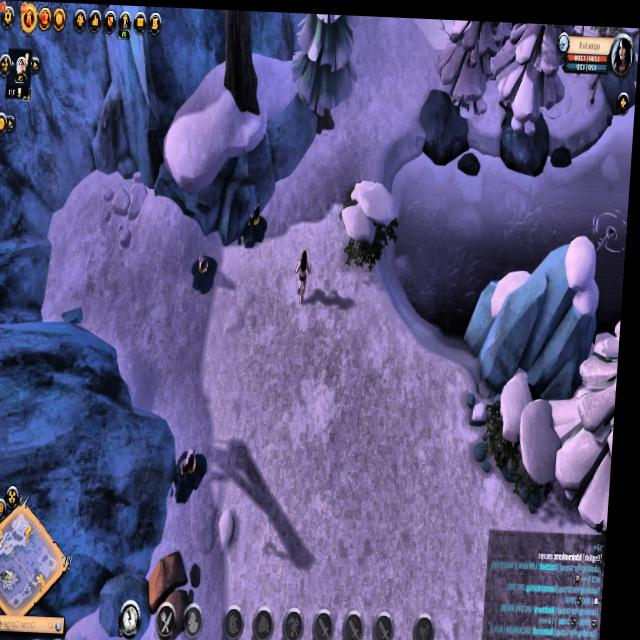copper_ore: (176, 440, 219, 495), (186, 246, 227, 291), (237, 206, 273, 247)
limestone: (152, 543, 213, 640)
